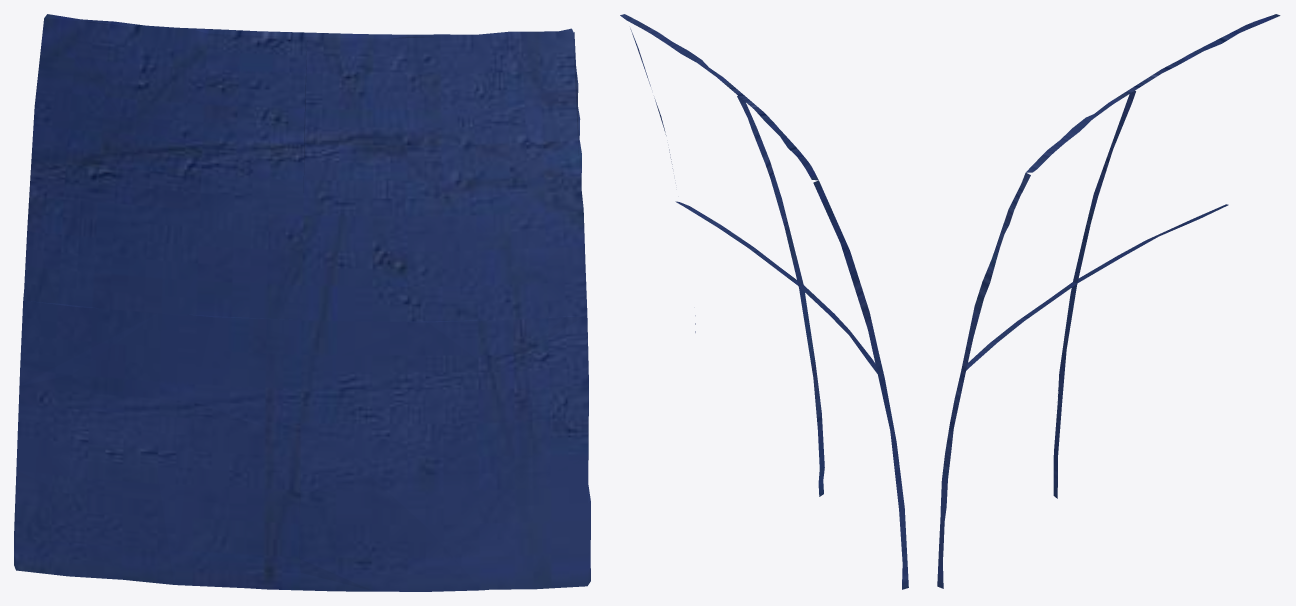
3 renders of one model, left to right at view 1: azimuth 30°, elevation 25°; view 2: azimuth 150°, elevation 25°; view 3: azimuth 270°, elevation 25°, orthographic. The views are drawn at different scales.
Size of the model in its own units: 2284464 by 2458689 by 1764414.
Materials: 1 (1 with a texture image).
